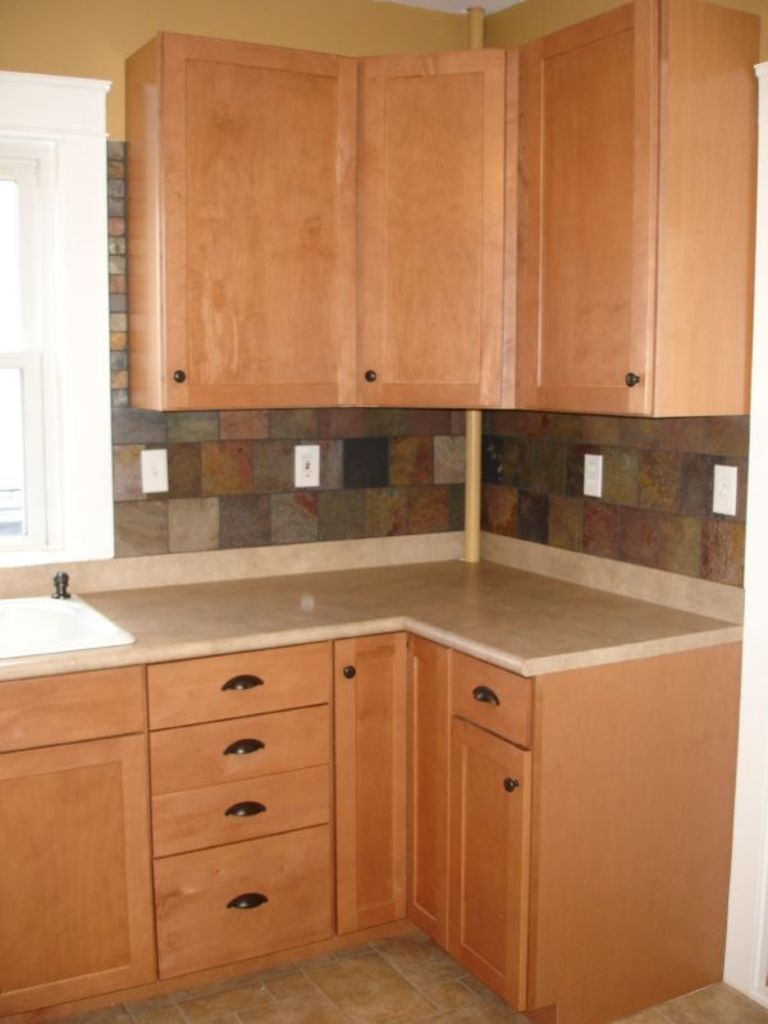cabinet door: (161, 38, 352, 412), (359, 60, 510, 410), (526, 55, 653, 405), (0, 745, 179, 971), (161, 829, 331, 940), (458, 735, 525, 994), (342, 649, 400, 906), (167, 771, 328, 839), (169, 710, 329, 775), (161, 653, 323, 704), (463, 664, 523, 731)
handle: (466, 671, 506, 713), (227, 880, 266, 923), (219, 664, 268, 698), (225, 791, 267, 828), (221, 727, 265, 757), (501, 774, 521, 804), (174, 356, 189, 395), (342, 651, 359, 684), (623, 361, 639, 395), (364, 364, 383, 391)
